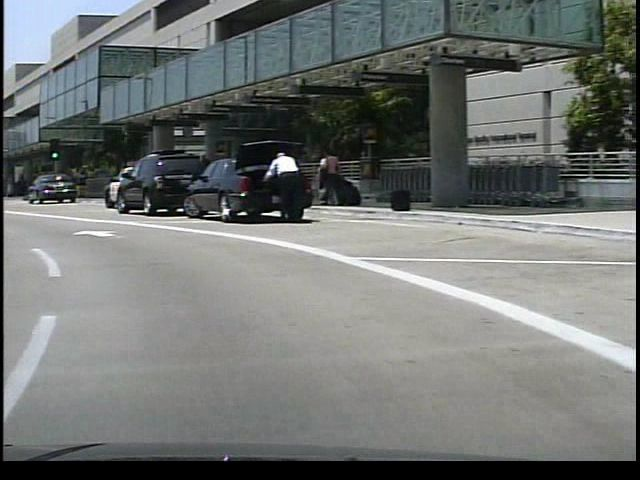person: (257, 149, 303, 229), (317, 148, 338, 210), (311, 147, 330, 211)
